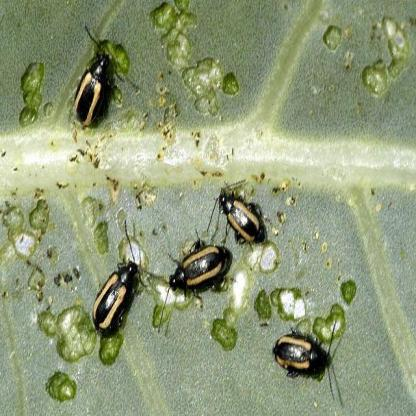beetle: (72, 25, 121, 137), (90, 253, 146, 345), (213, 178, 278, 248), (167, 239, 240, 300), (273, 331, 337, 376)
